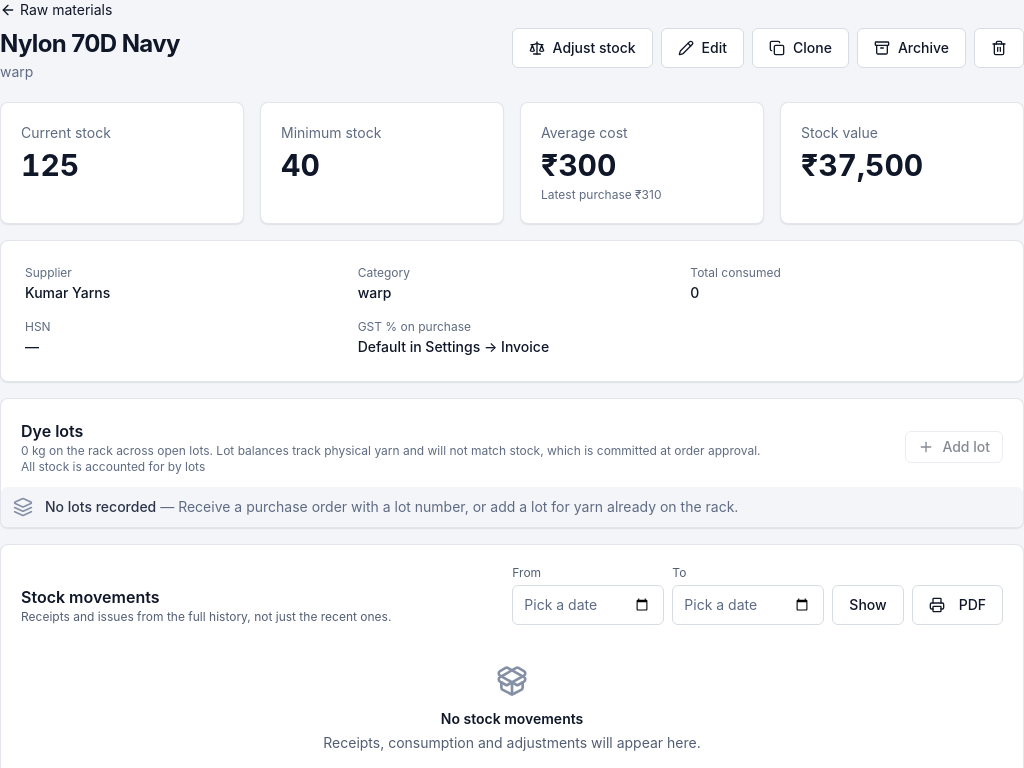
Scenario: cloning a raw material › opens the add form with the specification, no name and no stock
The image size is (1024, 768).
Click the button "Clone".
click(800, 48)  # box [752,28,849,68]
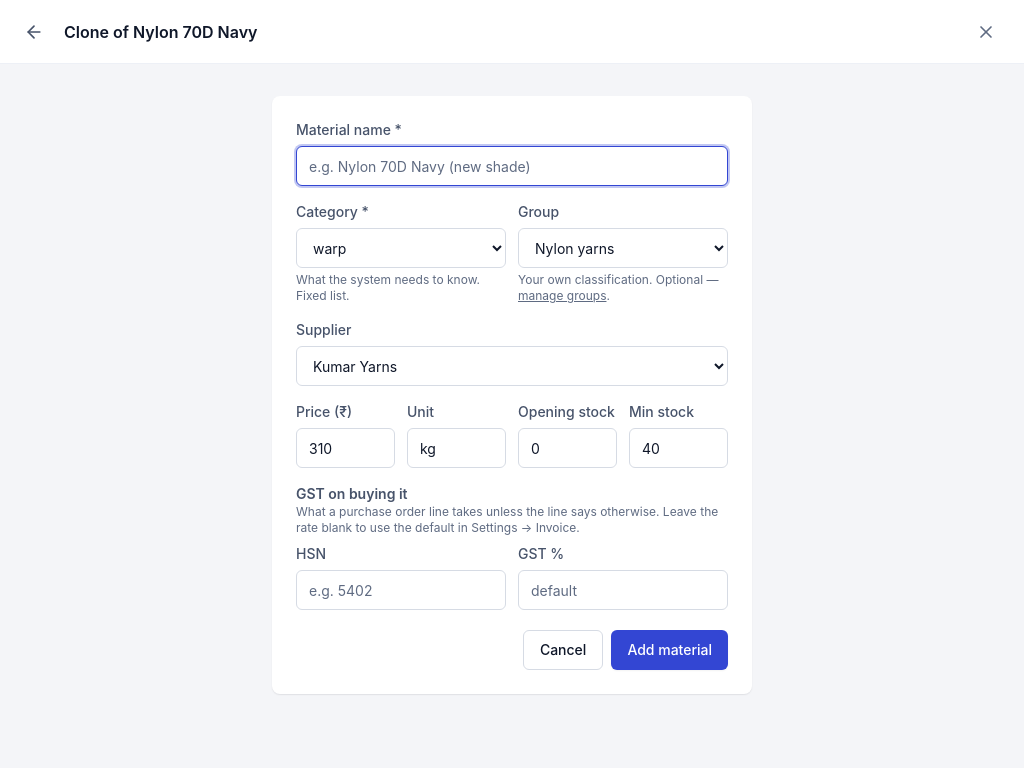
Expected: the heading "Clone of Nylon 70D Navy" is shown, [64,20,258,44]
Expected: the field labelled "Material name *" is empty, [296,146,728,186]
Expected: the dropdown labelled "Category *" shows "warp", [296,228,506,268]
